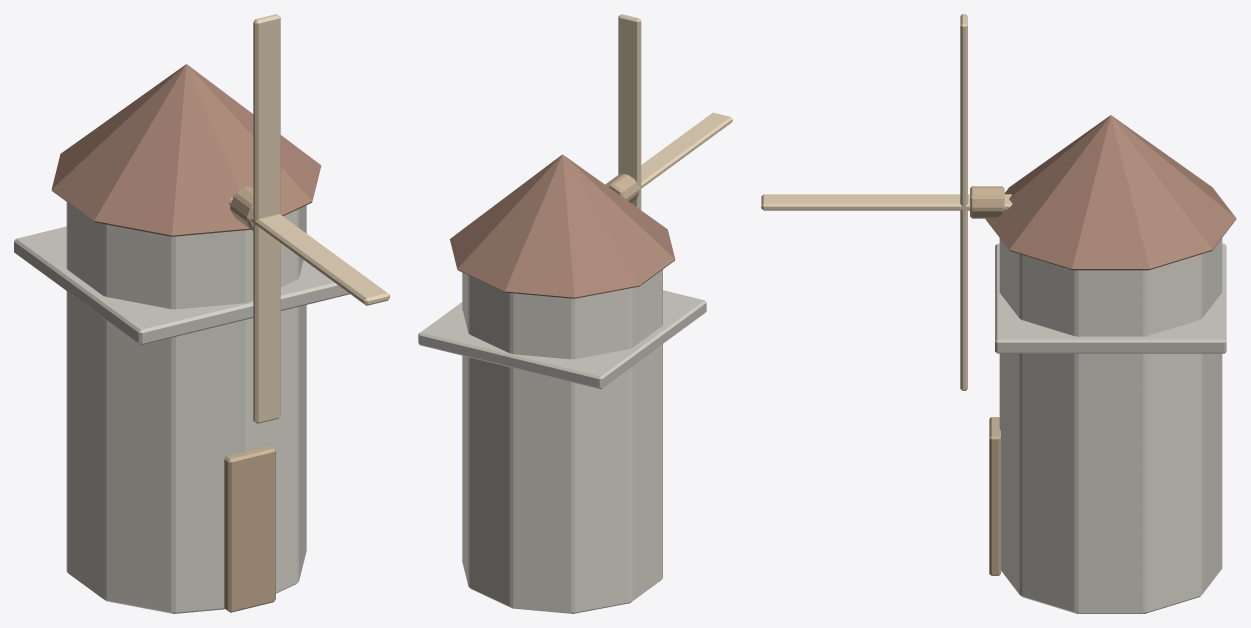
File: mill.glb
3 renders of one model, left to right at view 1: azimuth 30°, elevation 25°; view 2: azimuth 150°, elevation 25°; view 3: azimuth 270°, elevation 25°, orthographic. The views are drawn at different scales.
Parts seen in each view (by area): view 1: tower, cap, band, door, blade, blade.002, blade.001, hub; view 2: tower, cap, band, blade, blade.001, hub; view 3: tower, cap, band, blade.001, door, blade, blade.002, hub.
Part boxes in pixels (x1,y1,x2,y2): tower: (66,202,306,613); cap: (51,64,321,236); band: (14,226,349,344); door: (224,446,275,612); blade: (253,14,280,229); blade.002: (253,210,280,423); blade.001: (251,214,389,305); hub: (230,186,253,230); tower: (462,269,662,613); cap: (450,154,675,298); band: (418,290,706,389); blade: (618,14,641,194); blade.001: (638,112,732,189); hub: (605,174,639,202); tower: (999,238,1222,613); cap: (985,115,1236,270); band: (995,243,1226,353); blade.001: (761,194,969,210); door: (989,417,1000,575); blade: (960,14,967,214); blade.002: (960,200,967,390); hub: (970,186,1004,218).
Bounding box in the file's own units: 1.24 × 3.15 × 2.46.
